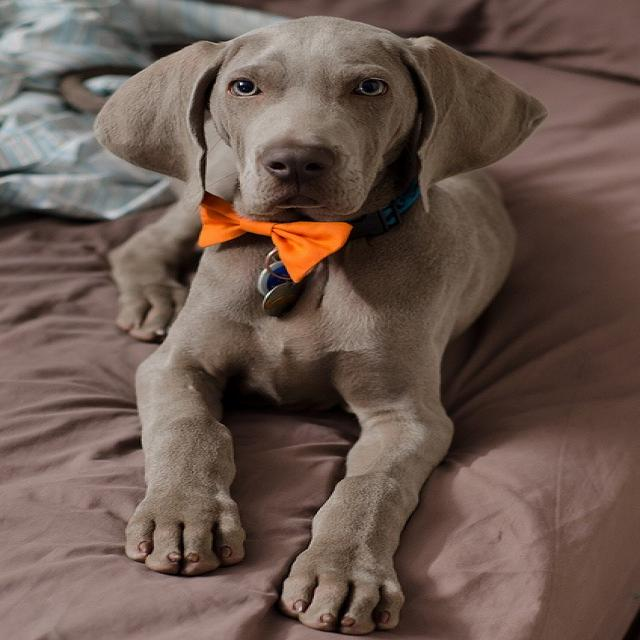dog: (57, 11, 548, 633)
